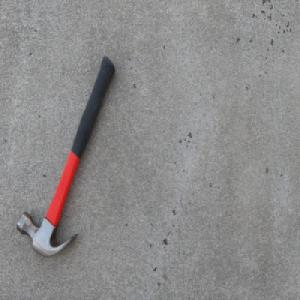Hammer: (16, 54, 117, 258)
